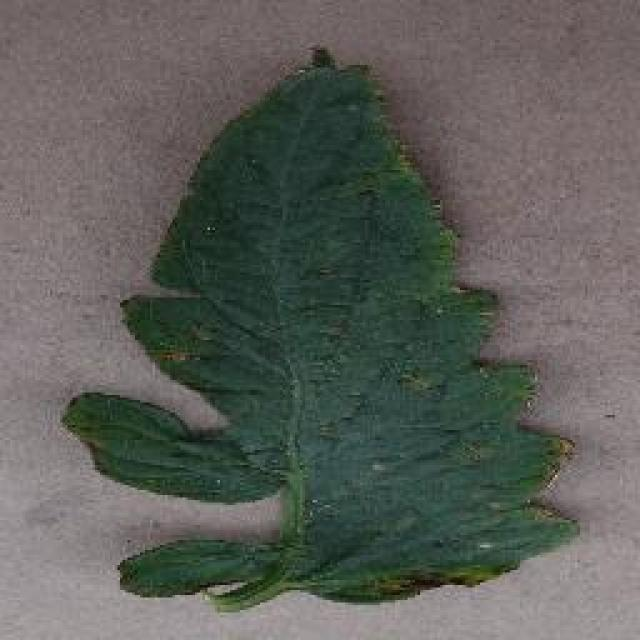bacterial spot: (62, 56, 585, 613)
